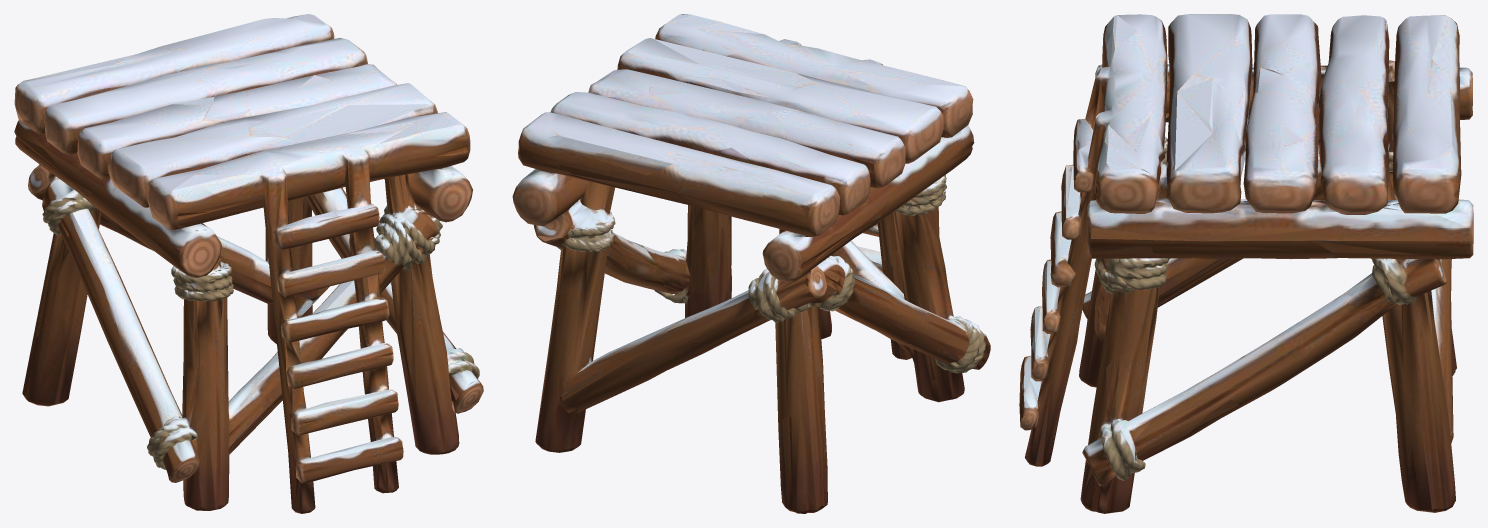
Rendered from tower-wood-base.glb.
3 renders of one model, left to right at view 1: azimuth 30°, elevation 25°; view 2: azimuth 150°, elevation 25°; view 3: azimuth 270°, elevation 25°, orthographic. The views are drawn at different scales.
Parts seen in each view (by area): view 1: output_unwrapped; view 2: output_unwrapped; view 3: output_unwrapped.
Boxes of the visible parts, left/top/right/bottom form: output_unwrapped: left=14, top=14, right=483, bottom=513; output_unwrapped: left=512, top=14, right=990, bottom=513; output_unwrapped: left=1019, top=14, right=1473, bottom=513.
Size of the model in its own units: 1.06 by 1 by 1.16.
1 material, 1 textured.
